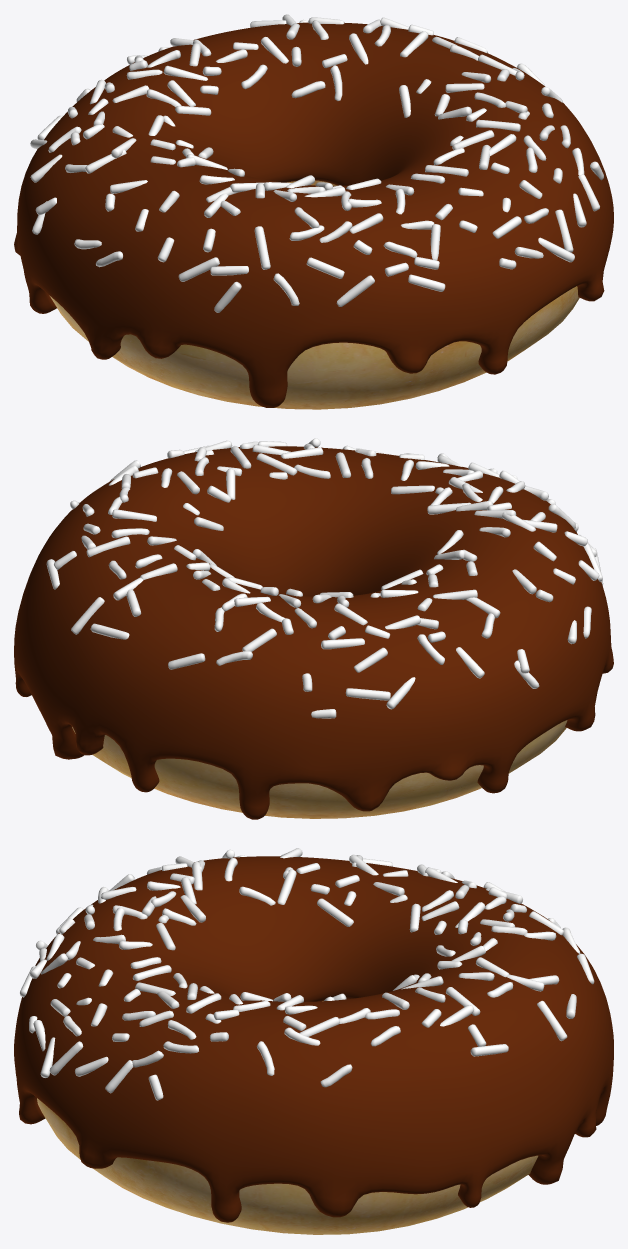
Rendered from FinalDonut.glb.
3 views of the same model, one above another, from view 1: azimuth 30°, elevation 25°; view 2: azimuth 150°, elevation 25°; view 3: azimuth 270°, elevation 25° (orthographic).
Parts seen in each view (by area): view 1: Icing, Donut; view 2: Icing, Donut; view 3: Icing, Donut.
Part boxes in pixels (x1=…): Icing: x1=14, y1=14, x2=613, y2=407; Donut: x1=49, y1=180, x2=579, y2=409; Icing: x1=14, y1=438, x2=613, y2=819; Donut: x1=72, y1=720, x2=567, y2=818; Icing: x1=14, y1=848, x2=613, y2=1222; Donut: x1=37, y1=1001, x2=538, y2=1234.
Bounding box in the file's own units: 0.3145 × 0.1274 × 0.315.
3 materials, 1 textured.
